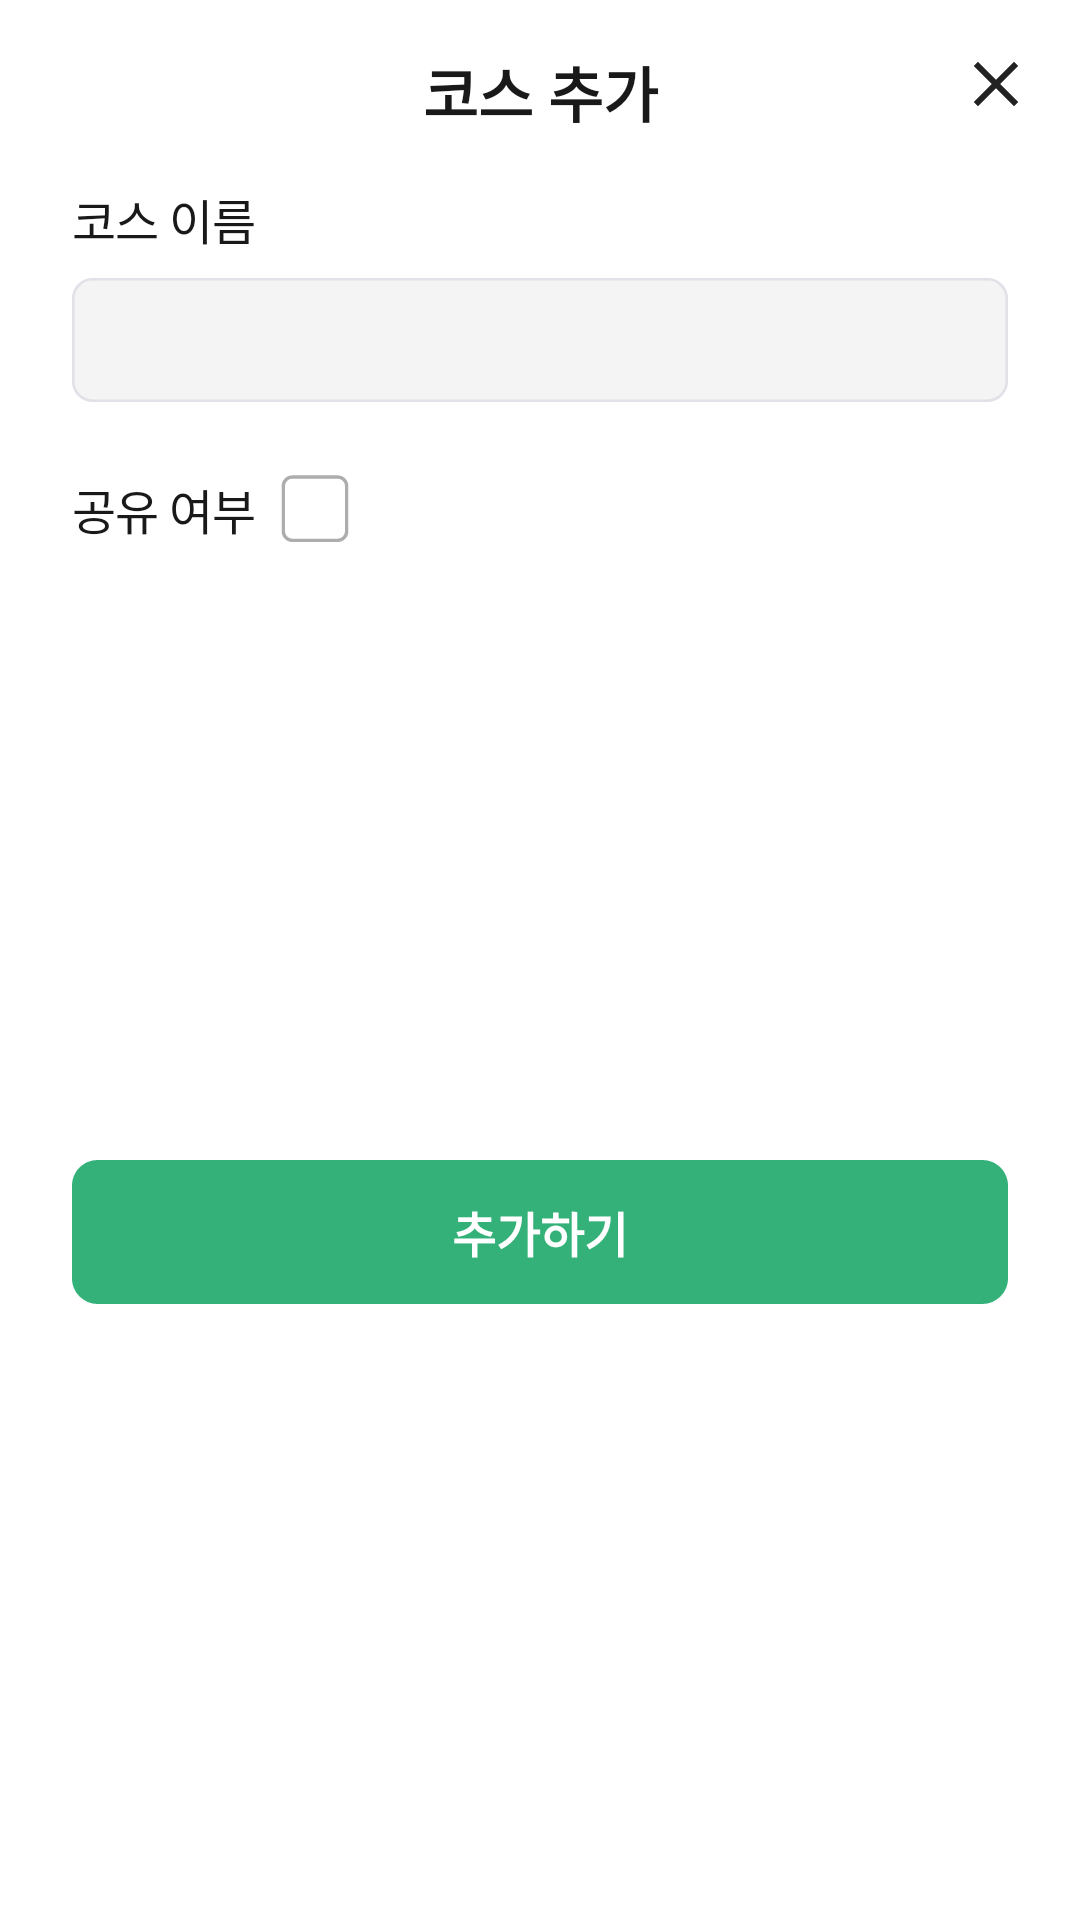

Point at icon controls on the screen. Image size 1080w x 1920h, points as point (x, y).
all close: point (996, 84)
